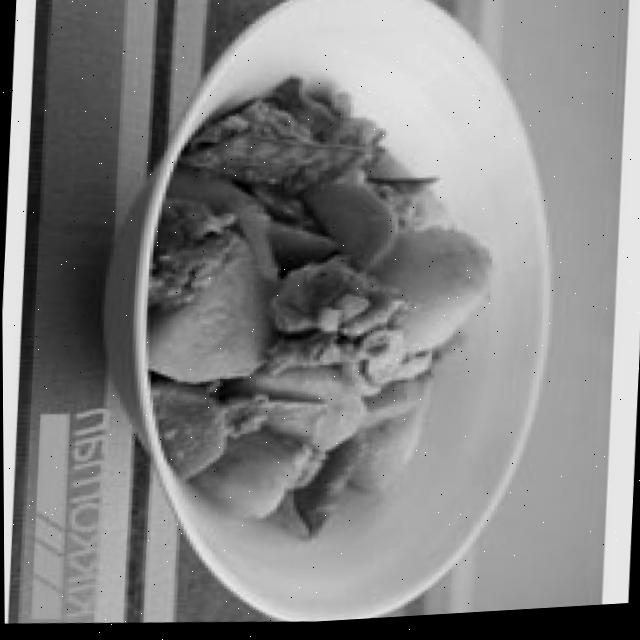牛肉菜式: (89, 0, 591, 636)
